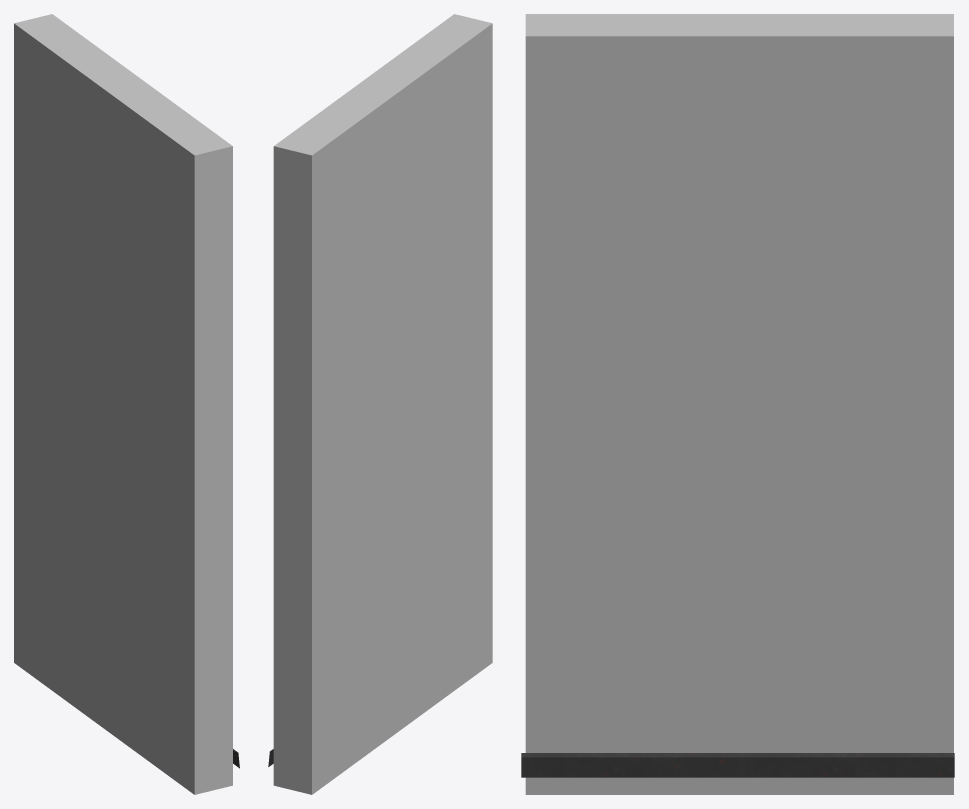
Rendered from BG_GR_BD_Wall_03.fbx.
3 views of the same model, side by side, from view 1: azimuth 30°, elevation 25°; view 2: azimuth 150°, elevation 25°; view 3: azimuth 270°, elevation 25° (orthographic). The views are drawn at different scales.
Parts seen in each view (by area): view 1: GenRm_wall_003; view 2: GenRm_wall_003; view 3: GenRm_wall_003, GenRm_wall_bottom_low.015.
Part boxes in pixels (left/top/right/bottom): GenRm_wall_003: left=14, top=14, right=232, bottom=794; GenRm_wall_003: left=273, top=14, right=492, bottom=794; GenRm_wall_003: left=525, top=14, right=953, bottom=794; GenRm_wall_bottom_low.015: left=521, top=753, right=954, bottom=777.
Bounding box in the file's own units: 0.4469 × 3.25 × 6.27.
